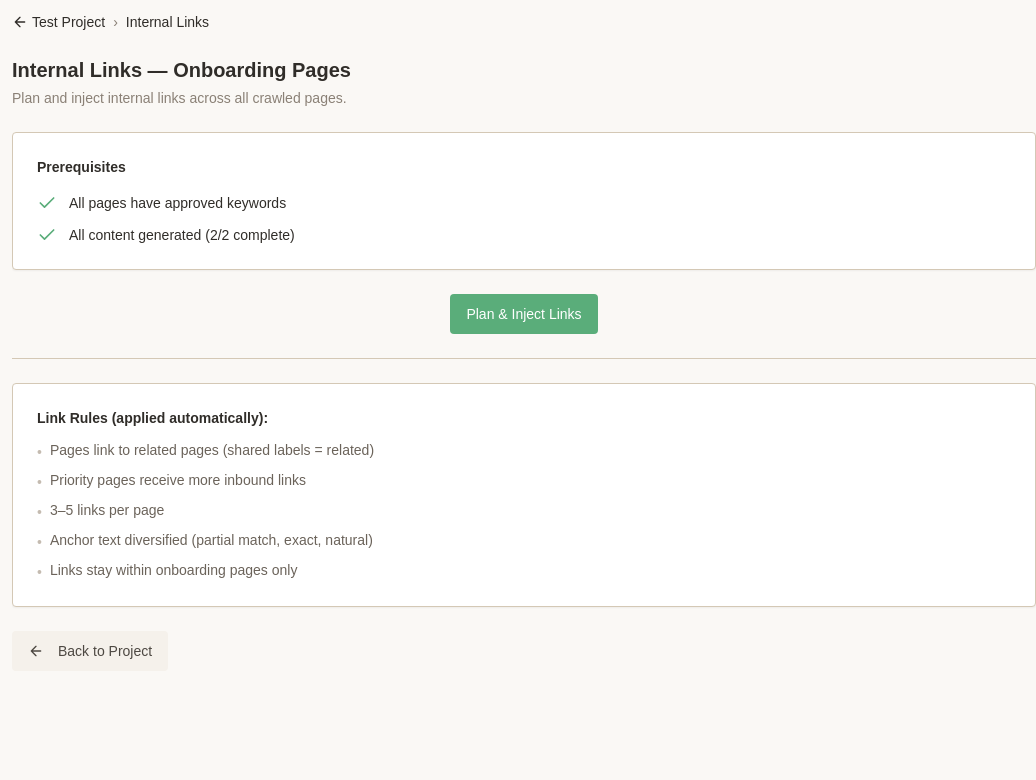
Scenario: OnboardingLinksPage › toast notifications › shows error toast on plan failure
Click the button "Plan & Inject Links" at (524, 314), box [450,294,598,334]
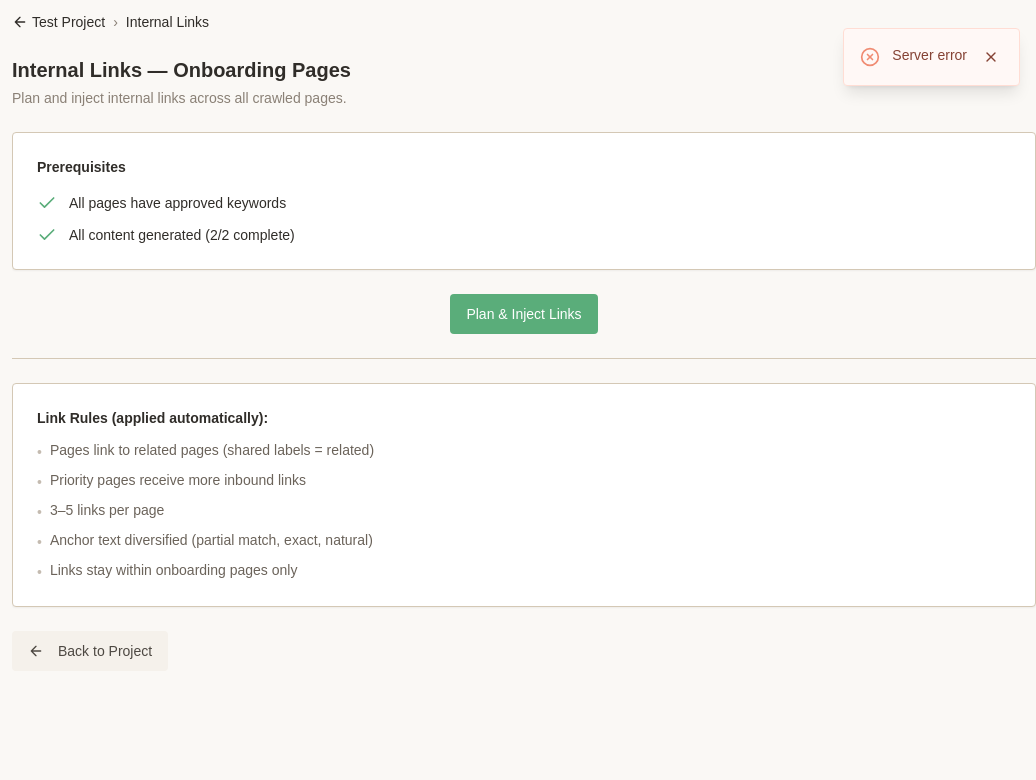
expect the text "Server error" is shown: met, box [892,45,967,65]
